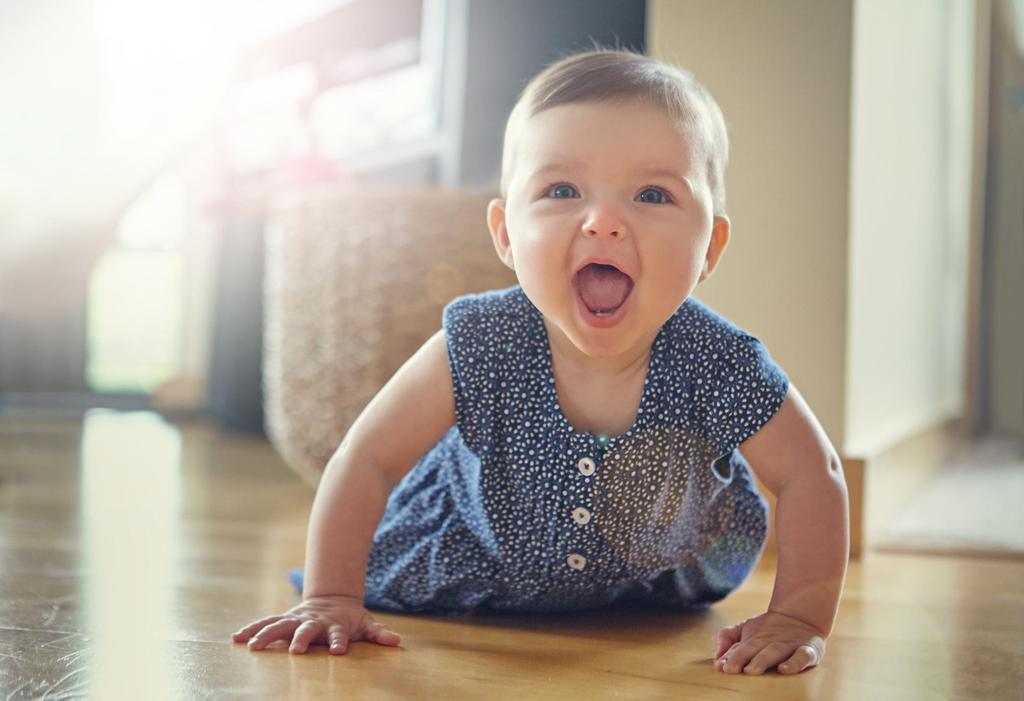child: (221, 37, 894, 688)
